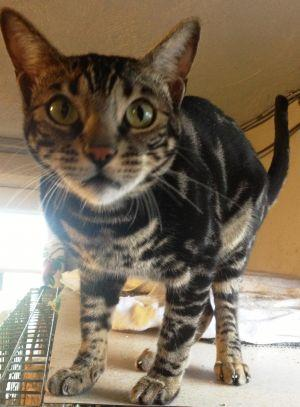bengal: (1, 1, 214, 215)
